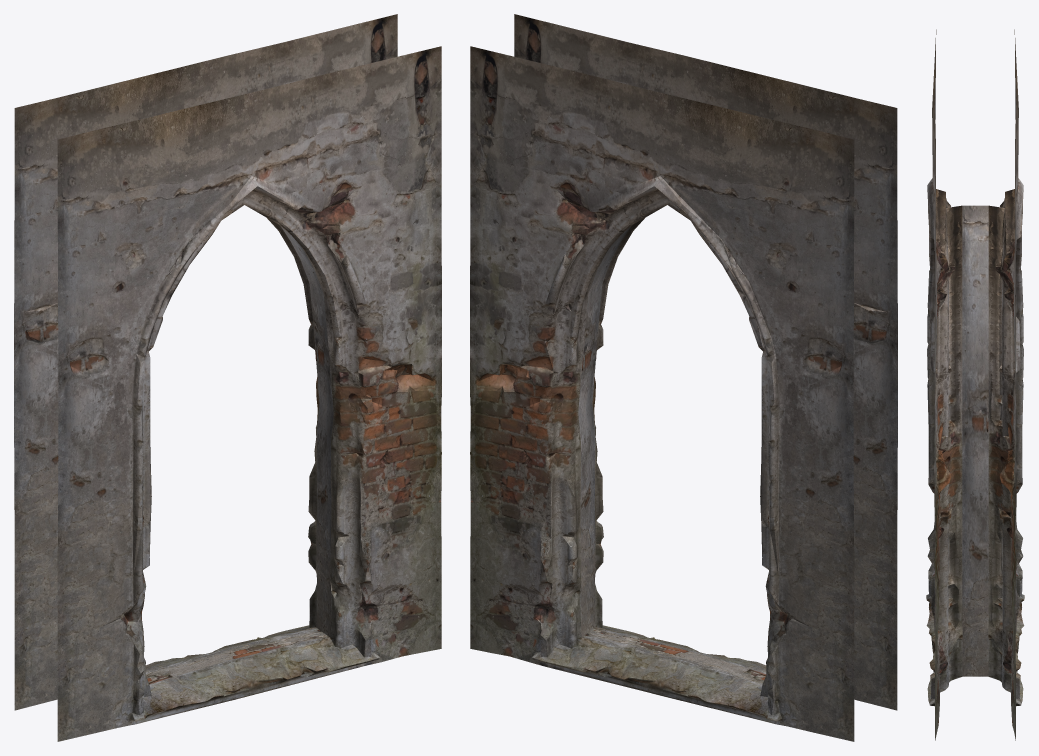
The model's file is SM_ChapelWall_02_03.fbx.
The picture shows the model from 3 angles, left to right: view 1: azimuth 30°, elevation 25°; view 2: azimuth 150°, elevation 25°; view 3: azimuth 270°, elevation 25°; orthographic projection. The views are drawn at different scales.
Parts seen in each view (by area): view 1: sm_ChapelWall_02_03_LOD0; view 2: sm_ChapelWall_02_03_LOD0; view 3: sm_ChapelWall_02_03_LOD0.
Boxes of the visible parts, <box> form: sm_ChapelWall_02_03_LOD0: <box>14,14,441,741</box>; sm_ChapelWall_02_03_LOD0: <box>470,14,897,741</box>; sm_ChapelWall_02_03_LOD0: <box>926,29,1024,740</box>.
Size of the model in its own units: 60.34 by 250 by 375.
